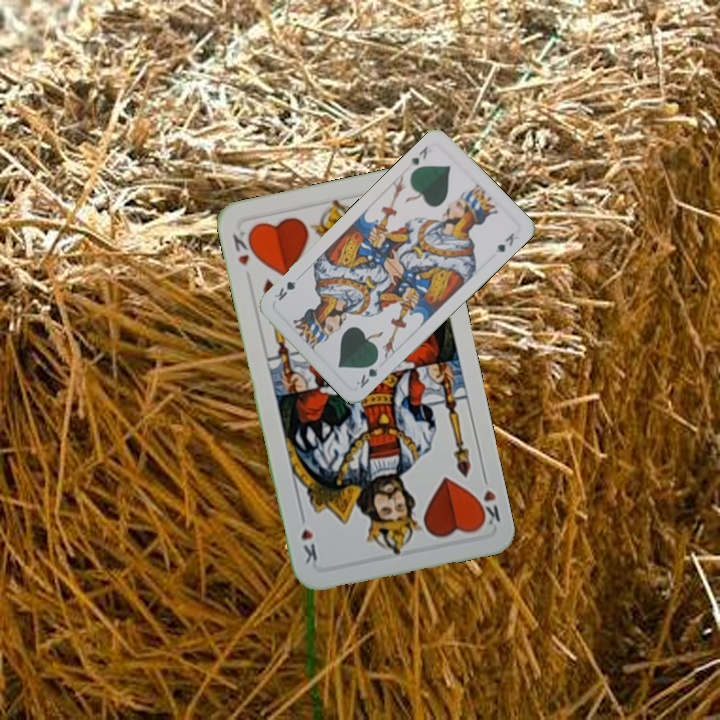GK: (352, 355, 381, 391), (405, 142, 431, 170)
HK: (472, 469, 503, 528), (228, 227, 258, 269)
